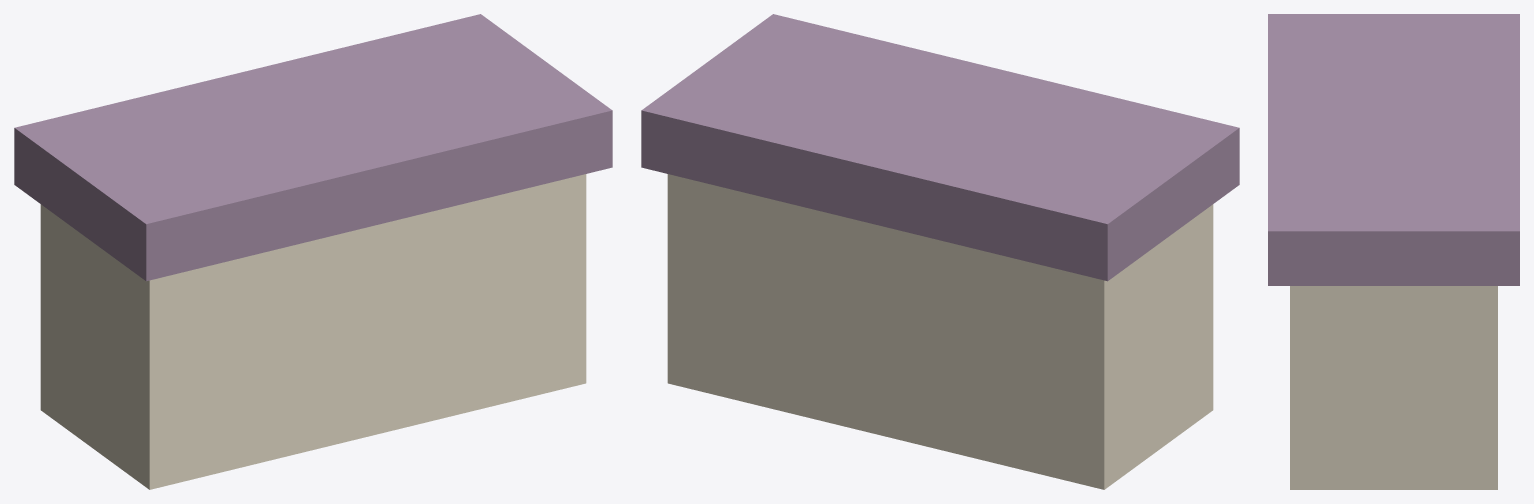
Rendered from house_a_lo2.glb.
The picture shows the model from 3 angles, left to right: view 1: azimuth 30°, elevation 25°; view 2: azimuth 150°, elevation 25°; view 3: azimuth 270°, elevation 25°; orthographic projection. The views are drawn at different scales.
Visible parts, largest first — view 1: house_a_lo2; view 2: house_a_lo2; view 3: house_a_lo2.
Boxes of the visible parts, <box> form: house_a_lo2: <box>14,14,612,489</box>; house_a_lo2: <box>641,14,1239,489</box>; house_a_lo2: <box>1268,14,1519,489</box>.
Bounding box in the file's own units: 4.7 × 2.68 × 2.3.
